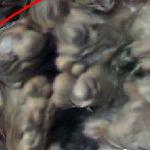alive: (6, 6, 146, 148)
